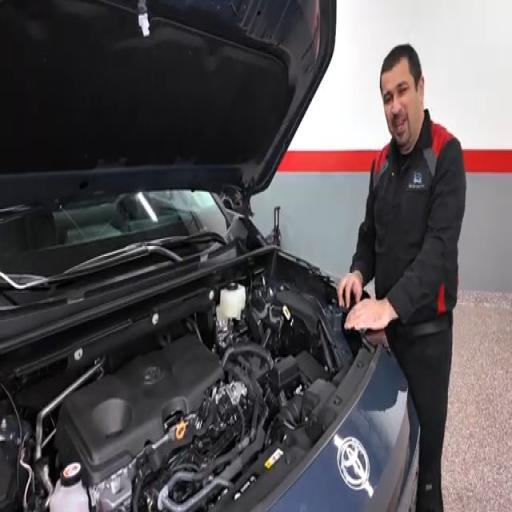bumper: (271, 352, 419, 511)
emblem: (336, 437, 372, 494), (143, 366, 162, 385)
hood: (0, 0, 335, 206)
windshield: (0, 191, 228, 275)
